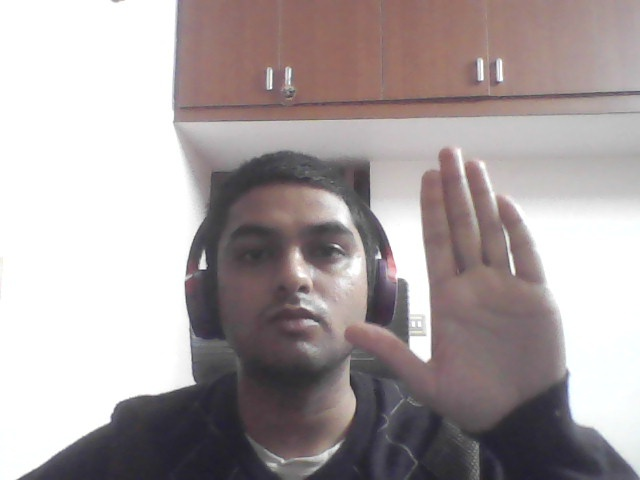Hello: (321, 133, 593, 455)
